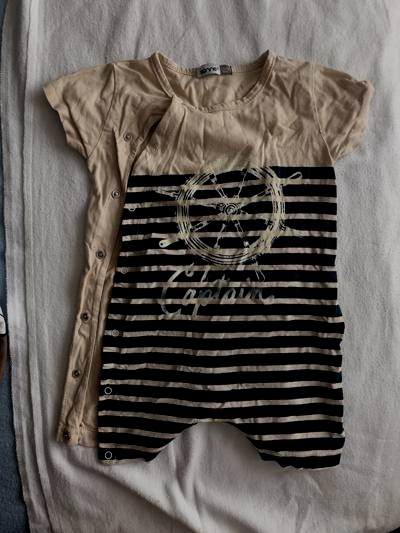Body: (27, 34, 381, 471)
